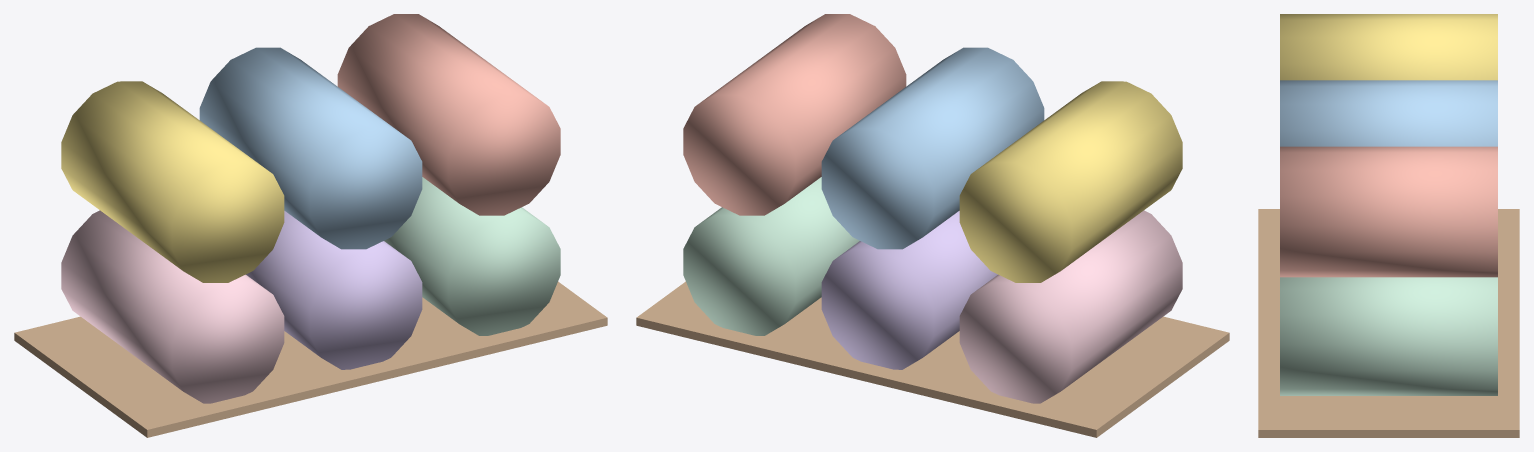
Rendered from rolos_tecido.glb.
3 renders of one model, left to right at view 1: azimuth 30°, elevation 25°; view 2: azimuth 150°, elevation 25°; view 3: azimuth 270°, elevation 25°, orthographic.
Visible parts, largest first — view 1: rolos_tecido; view 2: rolos_tecido; view 3: rolos_tecido.
Part boxes in pixels (x1,y1,x2,y2): rolos_tecido: (14,14,607,437); rolos_tecido: (636,14,1229,437); rolos_tecido: (1258,14,1519,437).
Size of the model in its own units: 1.2 by 0.61 by 0.6.
